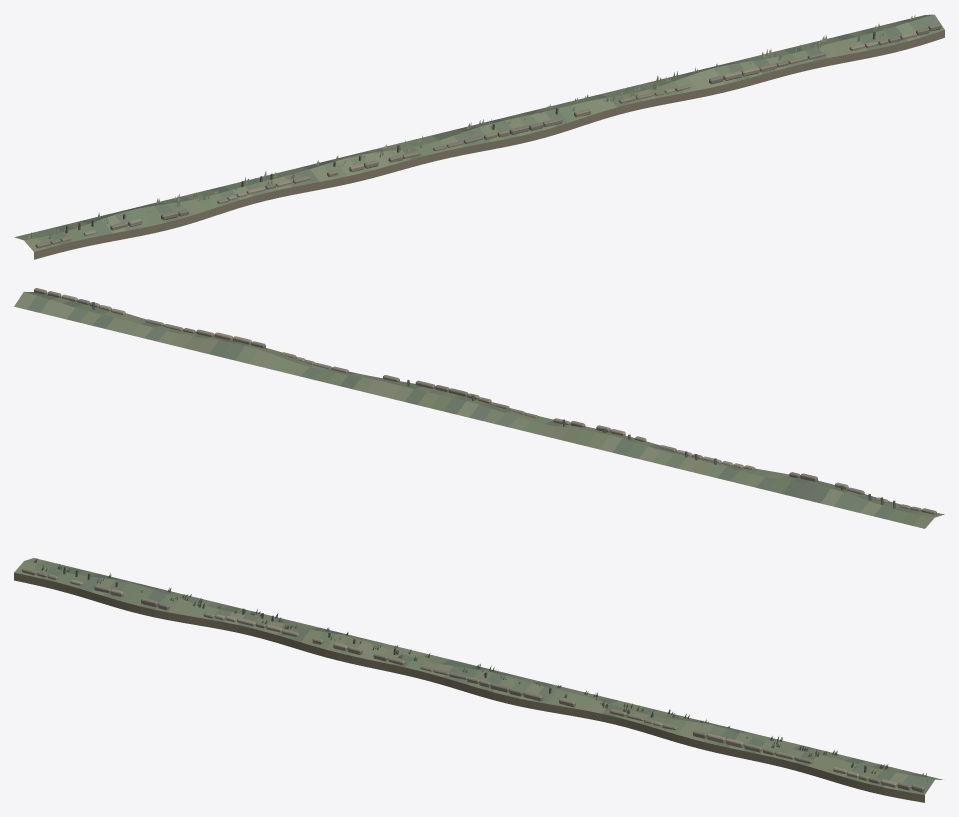
Rendered from riverbank.glb.
The picture shows the model from 3 angles, top to bottom: view 1: azimuth 30°, elevation 25°; view 2: azimuth 150°, elevation 25°; view 3: azimuth 330°, elevation 25°; orthographic projection.
Parts seen in each view (by area): view 1: riverbank; view 2: riverbank; view 3: riverbank.
Part boxes in pixels (<box>): riverbank: <box>14,14,944,259</box>; riverbank: <box>14,288,944,528</box>; riverbank: <box>14,558,942,802</box>.
Size of the model in its own units: 36 by 0.6639 by 1.57.
